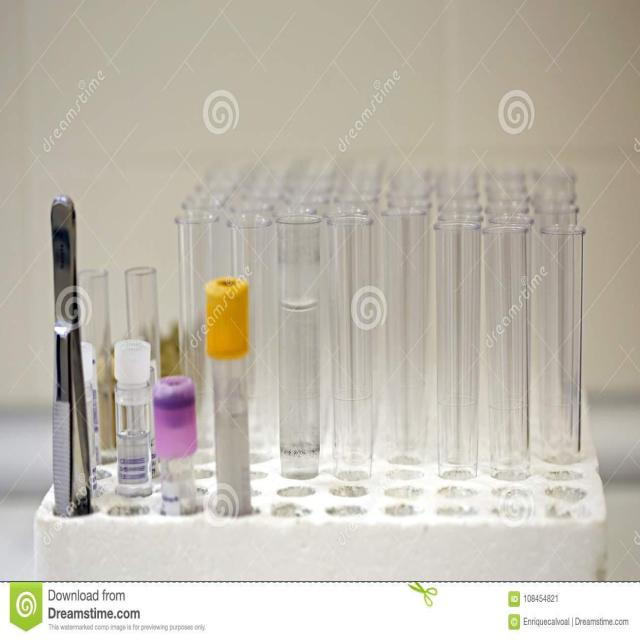B3: (267, 197, 330, 486), (323, 198, 383, 486), (530, 211, 592, 477), (431, 202, 486, 496), (479, 205, 536, 485), (378, 200, 433, 476), (200, 266, 256, 518)
